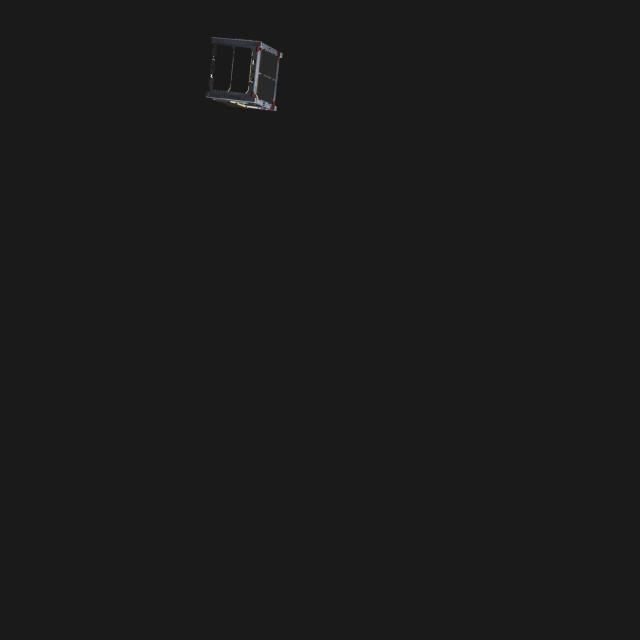medium_debris: (200, 30, 288, 122)
